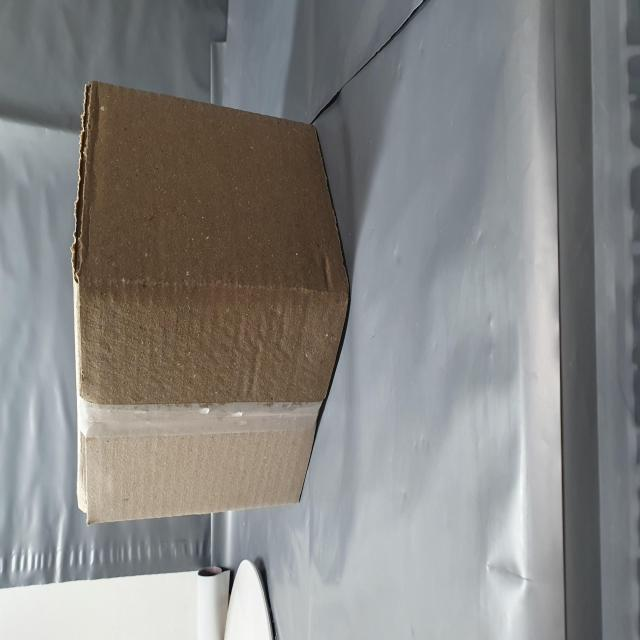wet: (65, 142, 312, 640)
